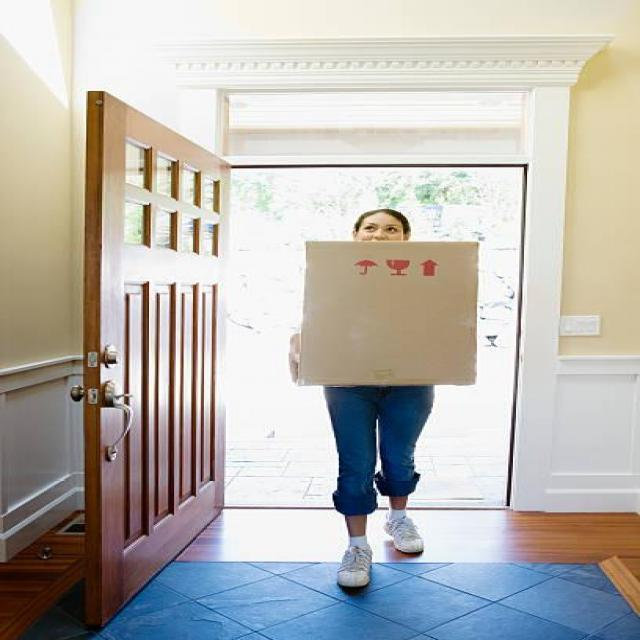box: (293, 229, 488, 398)
